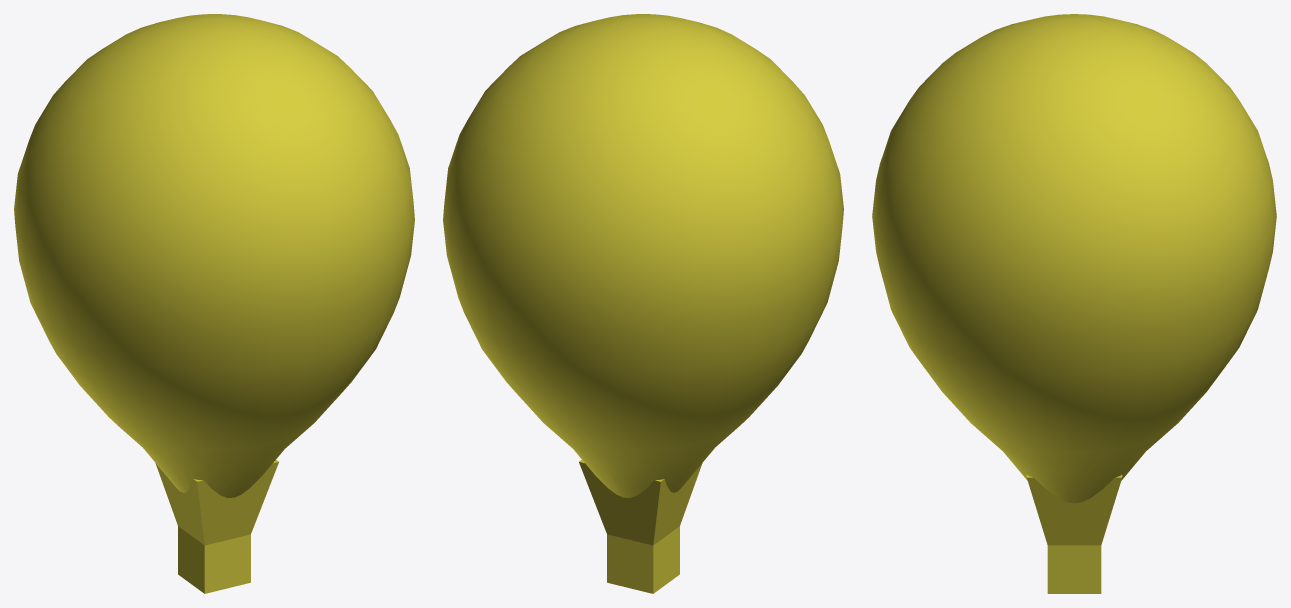
The model's file is balloonConvex.dae.
The picture shows the model from 3 angles, left to right: view 1: azimuth 30°, elevation 25°; view 2: azimuth 150°, elevation 25°; view 3: azimuth 270°, elevation 25°; orthographic projection.
Visible parts, largest first — view 1: Huelle; view 2: Huelle; view 3: Huelle.
Part boxes in pixels (<box>): Huelle: <box>14,14,414,593</box>; Huelle: <box>443,14,843,593</box>; Huelle: <box>872,14,1276,593</box>.
Size of the model in its own units: 2 by 2 by 3.
